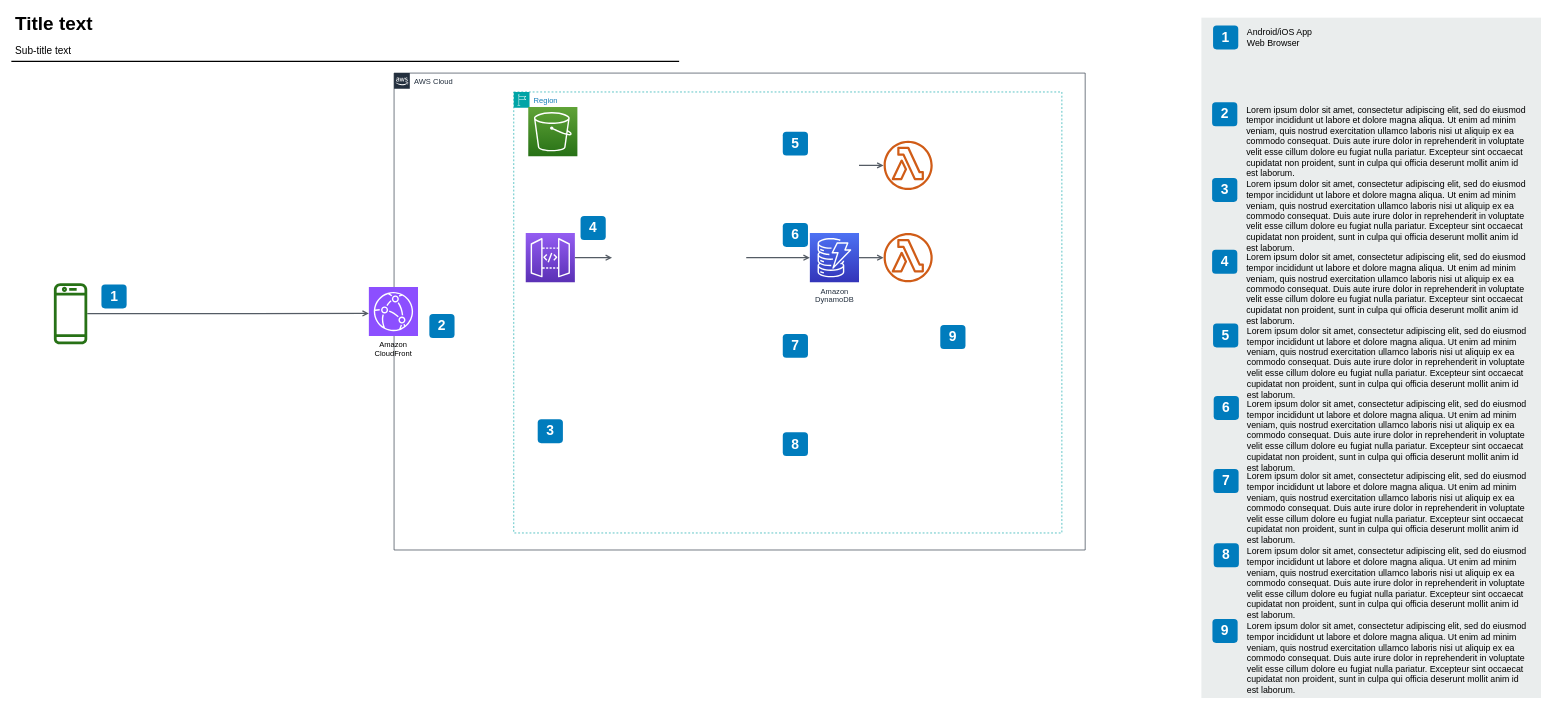
Image size: 1552x709. Some labels were removed from this diagram. The centre of each missing label's shape, as x and y in pixels:
Amazon API Gateway: the point at 550,257
Amazon S3: the point at 552,131
ERL Function: the point at 907,257
Mobile / Web: the point at 70,313
Subscriber Processor: the point at 907,165
